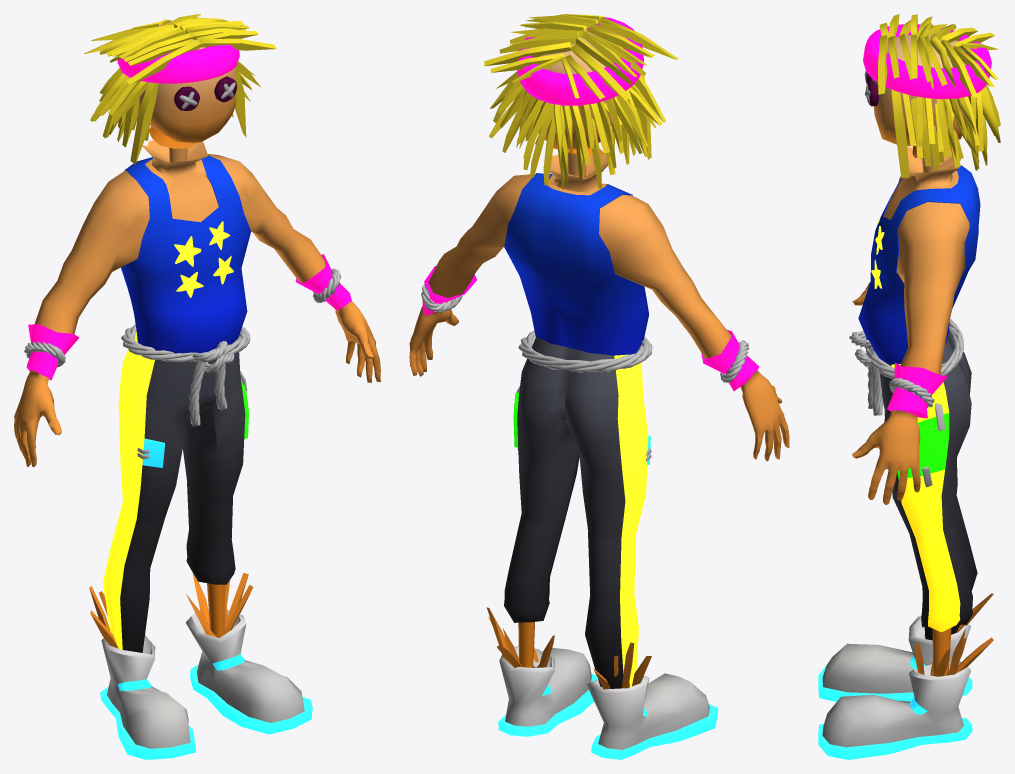
The model's file is espantapajarobaile1.fbx.
3 views of the same model, side by side, from view 1: azimuth 30°, elevation 25°; view 2: azimuth 150°, elevation 25°; view 3: azimuth 270°, elevation 25° (orthographic). The views are drawn at different scales.
Visible parts, largest first — view 1: cuerpo, botas, cabeza.001, cuerdas, bandacabeza, Text.001; view 2: cuerpo, cabeza.001, botas, bandacabeza, cuerdas; view 3: cuerpo, botas, cabeza.001, bandacabeza, cuerdas, Text.001.
Boxes of the visible parts, left/top/right/bottom form: cuerpo: left=14, top=140, right=380, bottom=652; botas: left=89, top=572, right=312, bottom=759; cabeza.001: left=84, top=14, right=276, bottom=164; cuerdas: left=24, top=268, right=341, bottom=426; bandacabeza: left=117, top=22, right=239, bottom=83; Text.001: left=174, top=221, right=233, bottom=297; cuerpo: left=409, top=152, right=789, bottom=688; cabeza.001: left=484, top=14, right=678, bottom=189; botas: left=486, top=607, right=718, bottom=759; bandacabeza: left=517, top=17, right=643, bottom=105; cuerdas: left=421, top=283, right=748, bottom=382; cuerpo: left=852, top=147, right=980, bottom=675; botas: left=818, top=593, right=993, bottom=759; cabeza.001: left=864, top=14, right=1000, bottom=178; bandacabeza: left=863, top=24, right=991, bottom=99; cuerdas: left=849, top=318, right=963, bottom=415; Text.001: left=871, top=220, right=884, bottom=288.
Size of the model in its own units: 166 by 308 by 74.72.
1 material, 1 textured.
